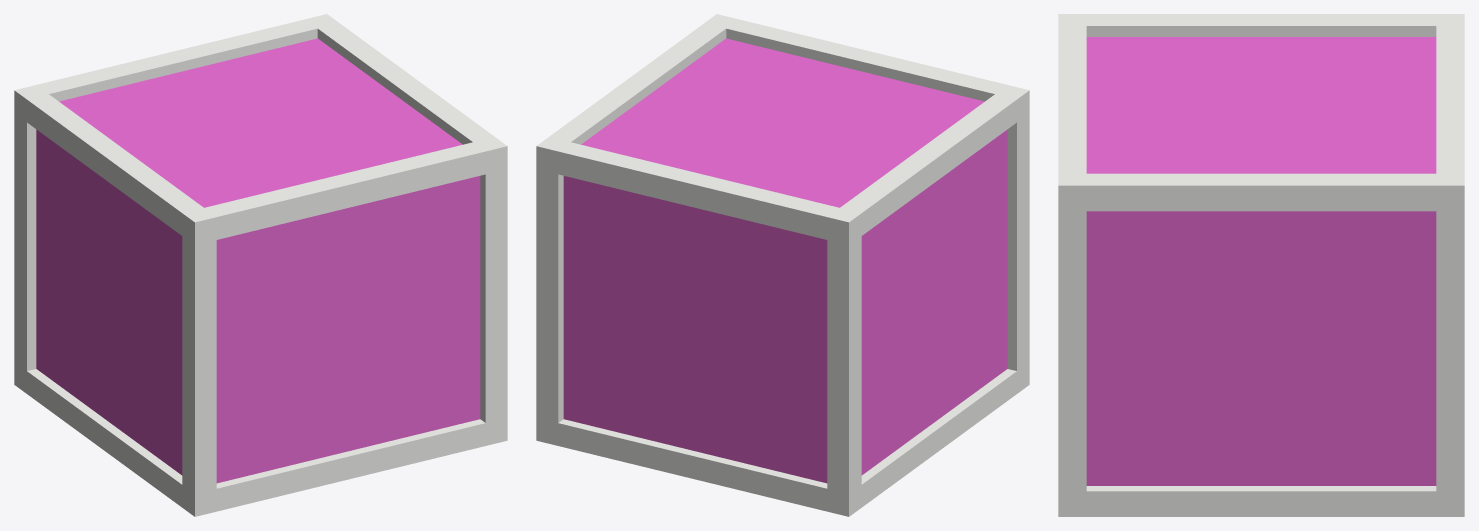
The model's file is ToyCube_Magenta.fbx.
3 views of the same model, side by side, from view 1: azimuth 30°, elevation 25°; view 2: azimuth 150°, elevation 25°; view 3: azimuth 270°, elevation 25° (orthographic). The views are drawn at different scales.
Parts seen in each view (by area): view 1: ToyCube_Magenta; view 2: ToyCube_Magenta; view 3: ToyCube_Magenta.
Boxes of the visible parts, box(x1,y1,x2,y2) form: ToyCube_Magenta: box(14, 14, 507, 516); ToyCube_Magenta: box(536, 14, 1029, 516); ToyCube_Magenta: box(1058, 14, 1464, 516).
Size of the model in its own units: 1 by 0.9 by 1.
